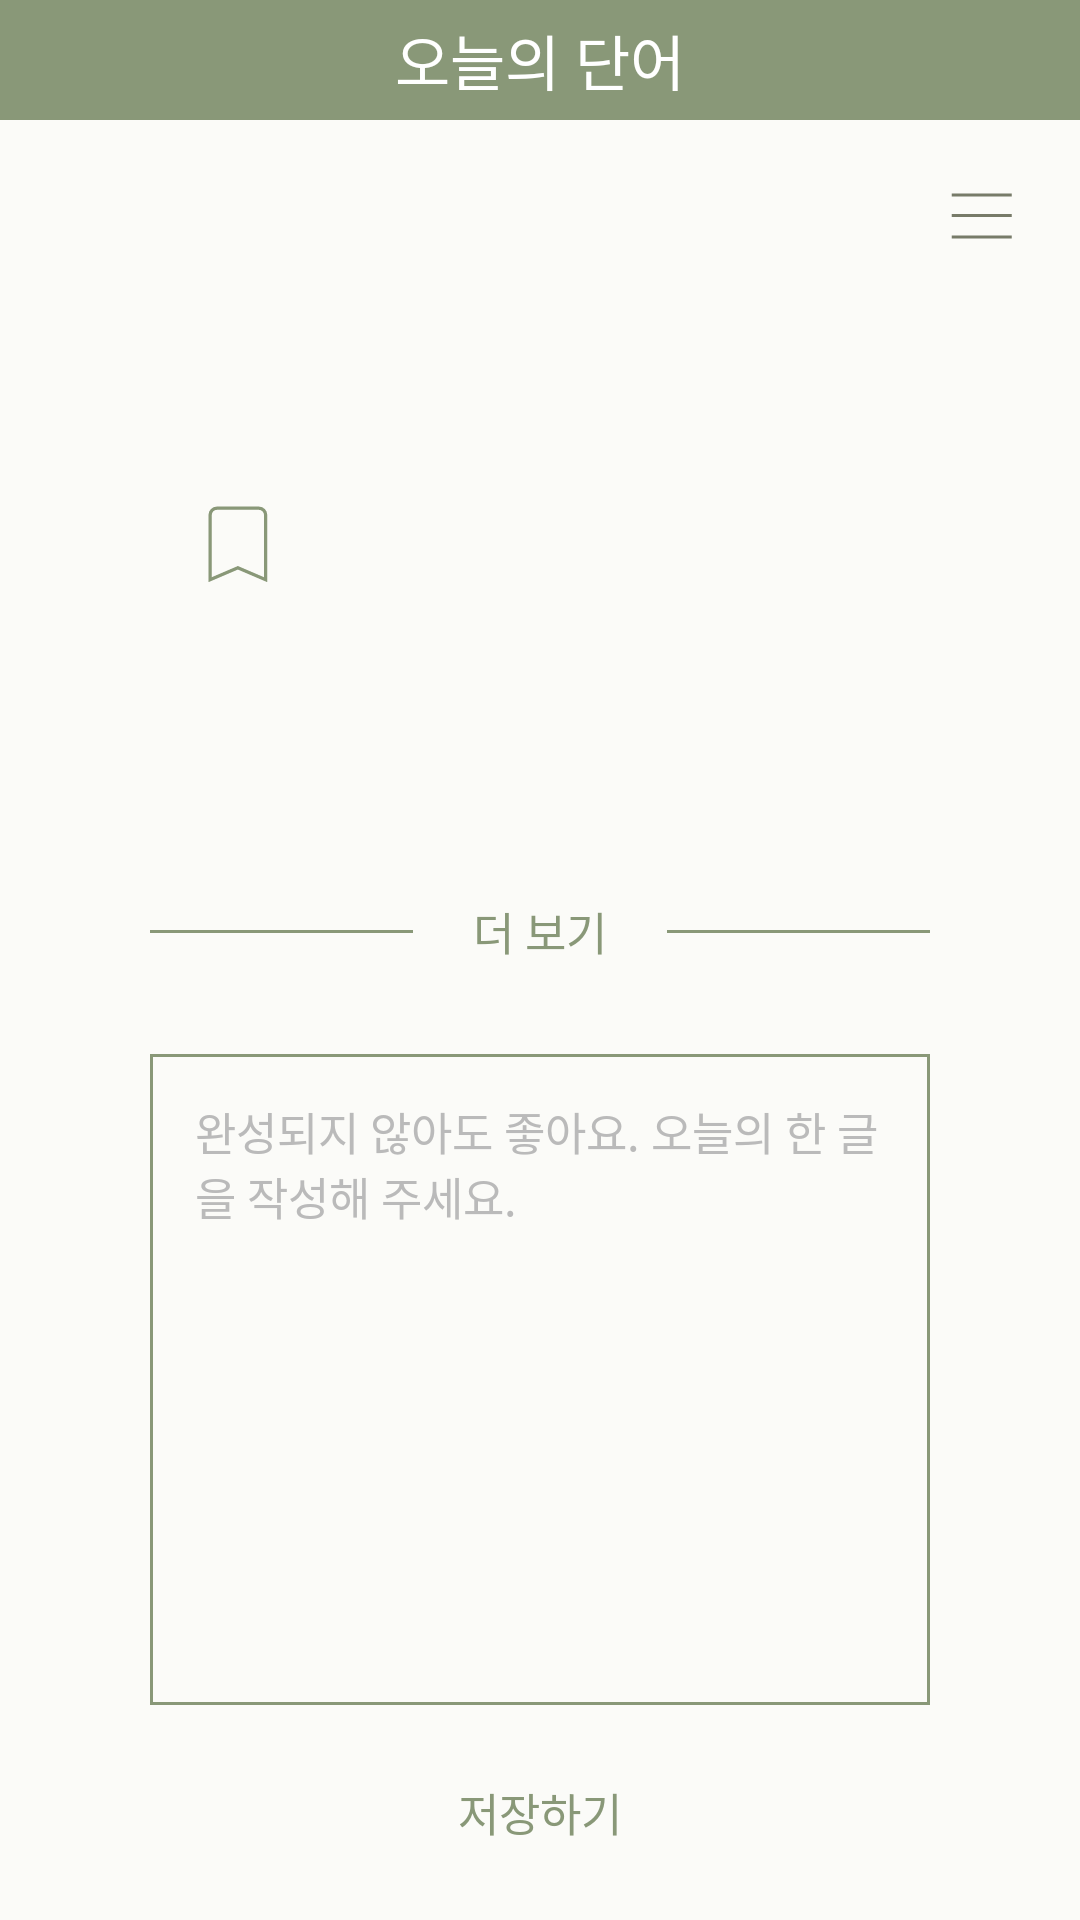

Where to tap for icons on this 1080 × 1920 app screen, as (x,y):
bookmark blank: (238,544)
navigation: (981,216)
